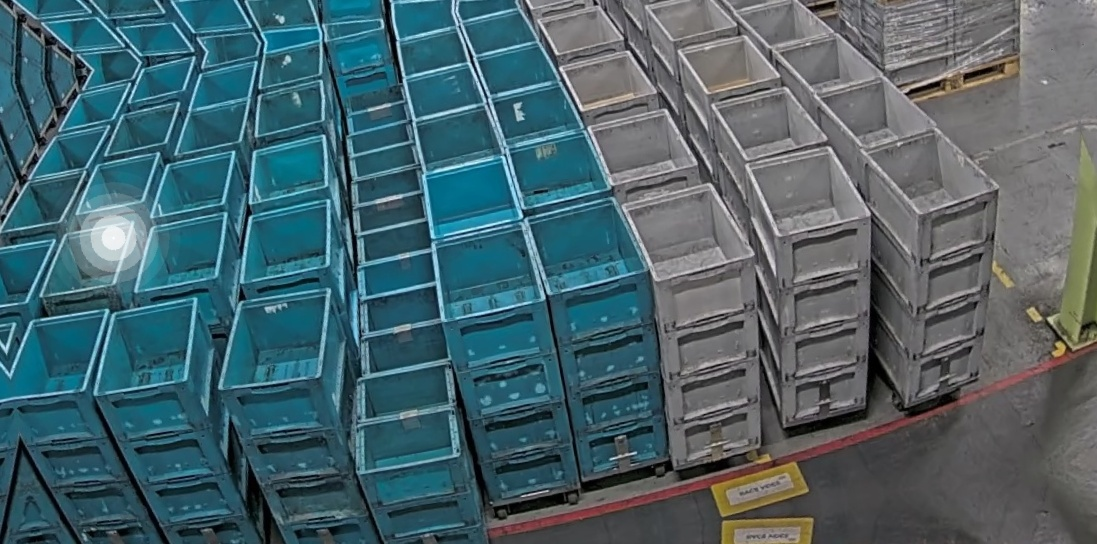4G: (841, 118, 1033, 411), (727, 143, 901, 428), (620, 176, 787, 470)
B4: (81, 292, 272, 544), (203, 285, 382, 544), (525, 192, 682, 484), (428, 220, 579, 510), (1, 303, 175, 544)
B8: (341, 361, 490, 544)
